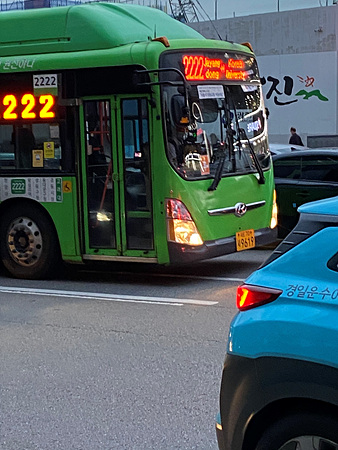entrance: (77, 91, 160, 260)
